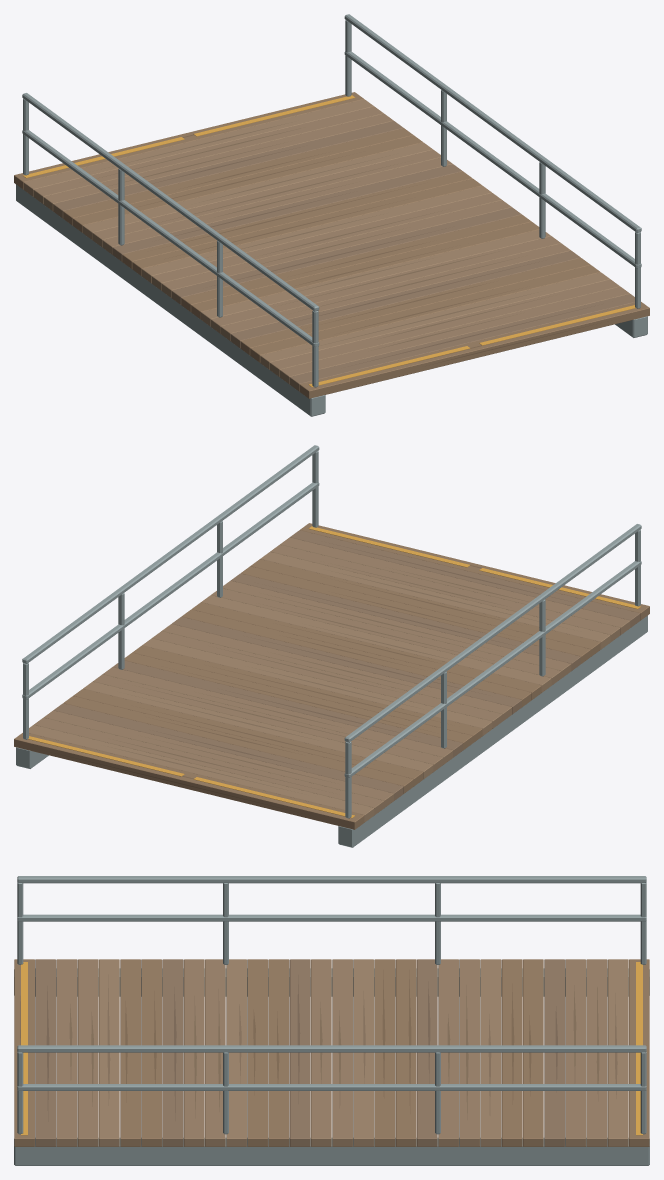
Rendered from main_ramp.glb.
3 renders of one model, top to bottom at view 1: azimuth 30°, elevation 25°; view 2: azimuth 150°, elevation 25°; view 3: azimuth 270°, elevation 25°, orthographic. The views are drawn at different scales.
Visible parts, largest first — view 1: main_ramp; view 2: main_ramp; view 3: main_ramp.
Boxes of the visible parts, bbox=[...] form: main_ramp: bbox=[14, 14, 649, 416]; main_ramp: bbox=[14, 445, 649, 847]; main_ramp: bbox=[14, 876, 649, 1165].
Size of the model in its own units: 4 by 1.21 by 6.
